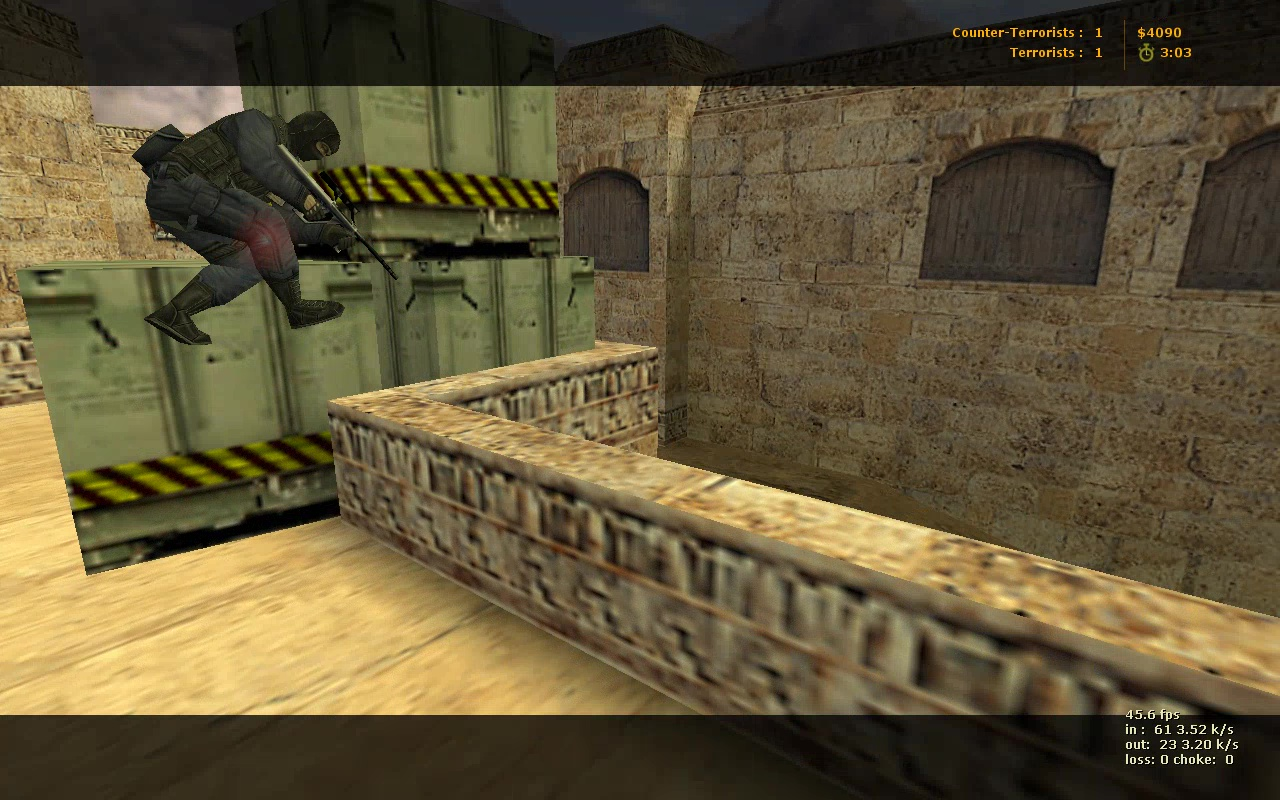ct: (130, 107, 359, 344)
